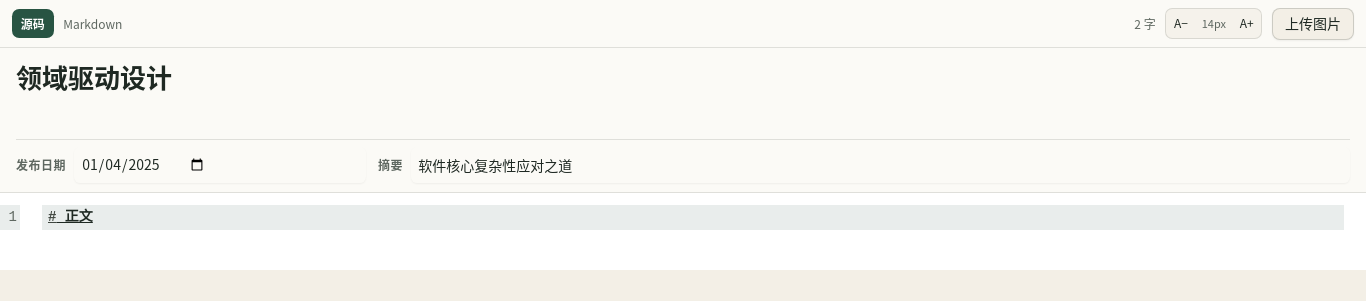
it: EditorPane › defaults to the 14px editor scale and persists toolbar adjustments
The width and height of the screenshot is (1366, 301).
Expected: the text "14px" is shown, [1202,15,1226,31]
Click the button named "增大编辑字号": (1247, 24) [1233,10,1260,37]
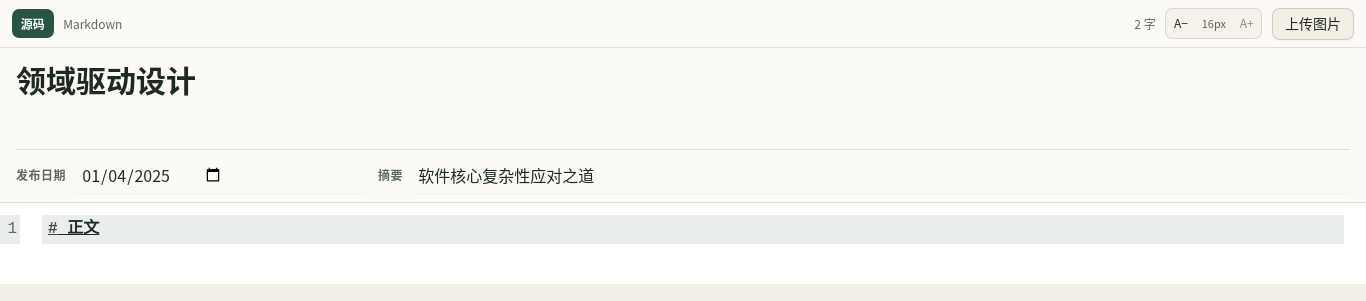
Expected: the text "16px" is shown, [1202,15,1226,31]
